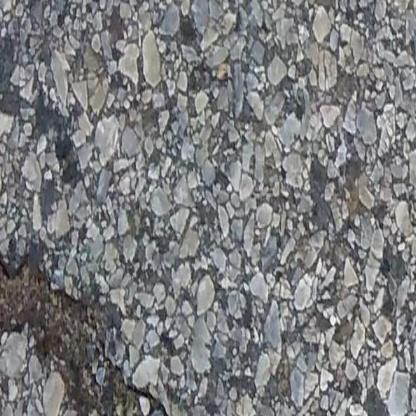Cracks: (0, 254, 187, 416)
